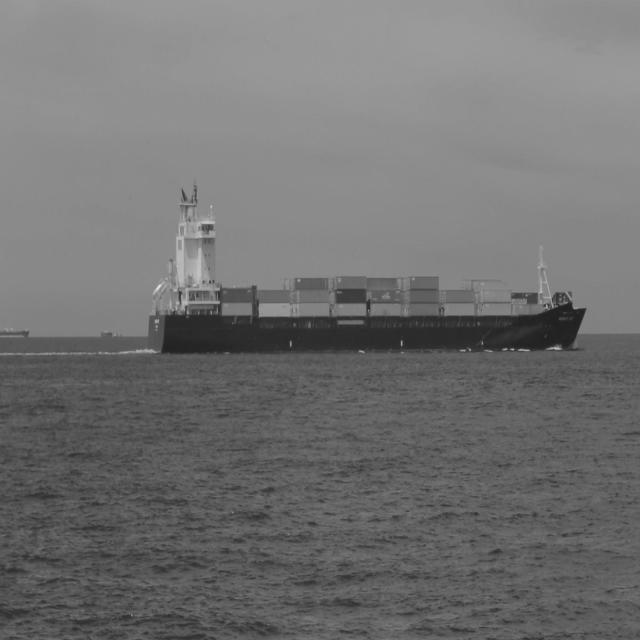ship: (148, 186, 590, 354)
